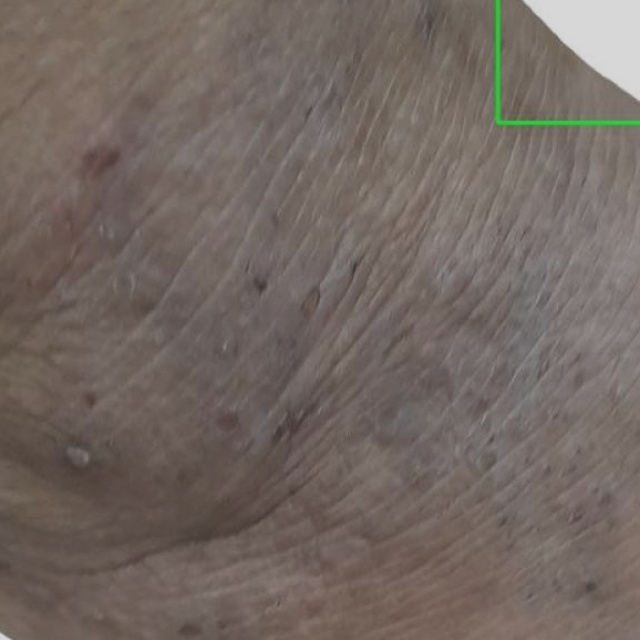Contact Dermatitis: (498, 0, 639, 122)
